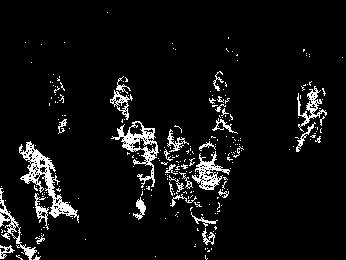person: (18, 139, 88, 244), (188, 141, 229, 260), (120, 120, 160, 222), (159, 124, 200, 212), (207, 69, 235, 132), (109, 76, 133, 121)
